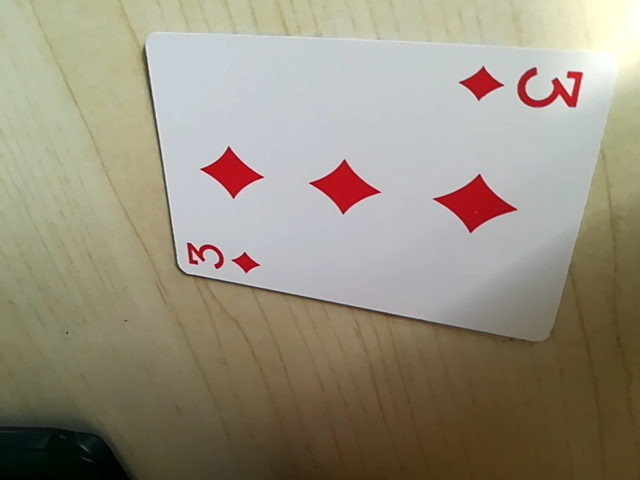fk 3: (456, 60, 588, 114), (177, 236, 266, 279)
